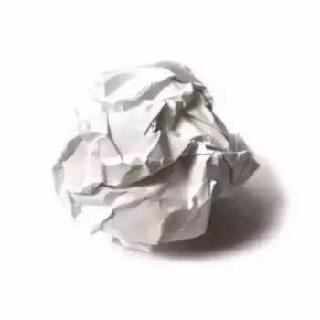8/可回收垃圾/纸: (50, 59, 261, 254)
